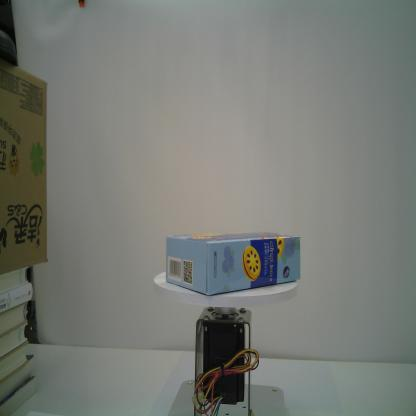Dessert: (166, 231, 301, 296)
